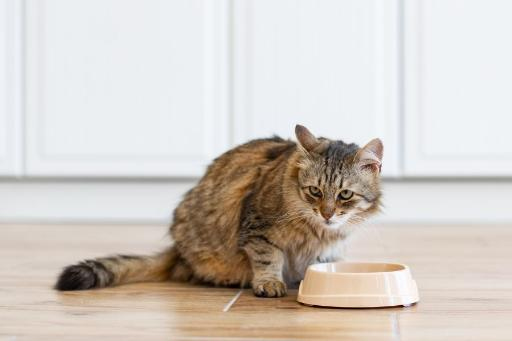cat_eating: (55, 125, 419, 307)
